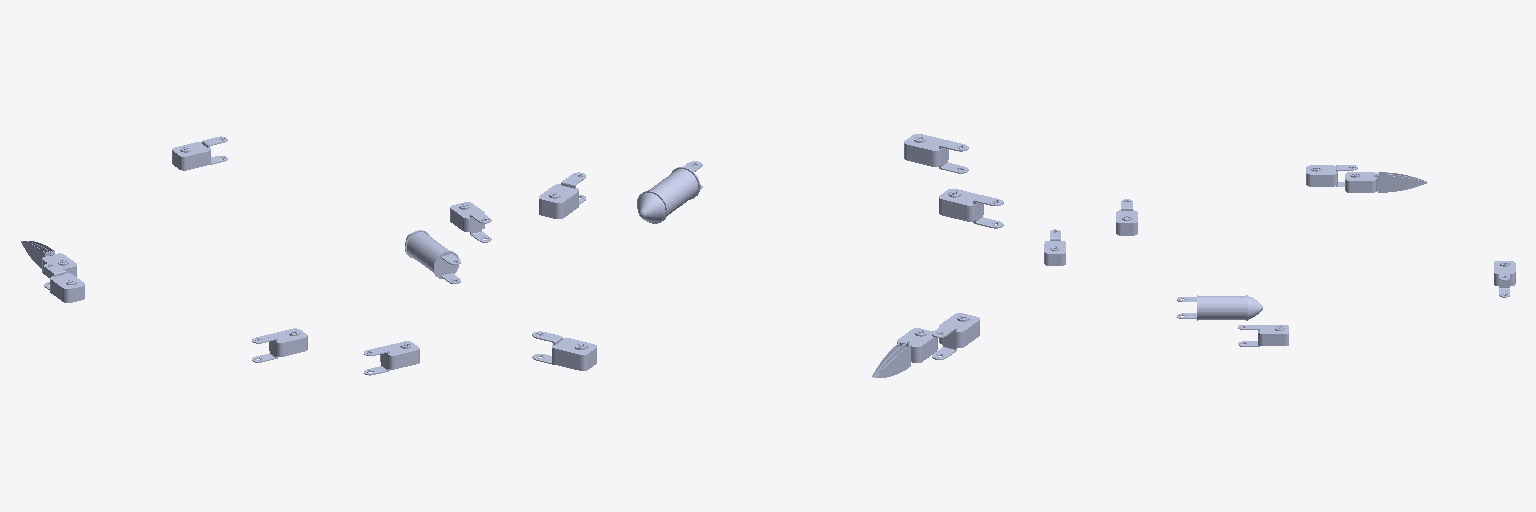
URDF robot description (bus_assembly_total_4):
<?xml version="1.0" encoding="utf-8"?>
<!-- This URDF was automatically created by SolidWorks to URDF Exporter! Originally created by Stephen Brawner (brawner@gmail.com) 
     Commit Version: 1.5.1-0-g916b5db  Build Version: 1.5.7152.31018
     For more information, please see http://wiki.ros.org/sw_urdf_exporter -->
<robot
  name="bus_assembly_total_4">
  <link
    name="base_link">
    <inertial>
      <origin
        xyz="0.0129612922113042 0.194166531718244 0.00201088275073096"
        rpy="0 0 0" />
      <mass
        value="0.0714886173099694" />
      <inertia
        ixx="5.8052354022765E-05"
        ixy="9.64592468533014E-23"
        ixz="-3.91335098339807E-22"
        iyy="3.48906593535472E-05"
        iyz="2.85219843976E-22"
        izz="5.69343997438361E-05" />
    </inertial>
    <visual>
      <origin
        xyz="0 0 0"
        rpy="0 0 0" />
      <geometry>
        <mesh
          filename="package://bus_assembly_total_4/meshes/base_link.STL" />
      </geometry>
      <material
        name="">
        <color
          rgba="0.792156862745098 0.819607843137255 0.933333333333333 1" />
      </material>
    </visual>
    <collision>
      <origin
        xyz="0 0 0"
        rpy="0 0 0" />
      <geometry>
        <mesh
          filename="package://bus_assembly_total_4/meshes/base_link.STL" />
      </geometry>
    </collision>
  </link>
  <link
    name="link1">
    <inertial>
      <origin
        xyz="-0.0144943377294187 -3.40932646003544E-08 0.00218131066633015"
        rpy="0 0 0" />
      <mass
        value="0.0861353887155428" />
      <inertia
        ixx="1.99776586952259E-05"
        ixy="-1.72087935880424E-10"
        ixz="-5.06437415995498E-08"
        iyy="4.35086698833461E-05"
        iyz="-6.51211953068583E-13"
        izz="4.97203166390373E-05" />
    </inertial>
    <visual>
      <origin
        xyz="0 0 0"
        rpy="0 0 0" />
      <geometry>
        <mesh
          filename="package://bus_assembly_total_4/meshes/link1.STL" />
      </geometry>
      <material
        name="">
        <color
          rgba="0.792156862745098 0.819607843137255 0.933333333333333 1" />
      </material>
    </visual>
    <collision>
      <origin
        xyz="0 0 0"
        rpy="0 0 0" />
      <geometry>
        <mesh
          filename="package://bus_assembly_total_4/meshes/link1.STL" />
      </geometry>
    </collision>
  </link>
  <joint
    name="joint1"
    type="revolute">
    <origin
      xyz="-0.09382 -0.00066923 0"
      rpy="0 0 0" />
    <parent
      link="base_link" />
    <child
      link="link1" />
    <axis
      xyz="0 0 -1" />
    <limit
      lower="-2.094"
      upper="2.094"
      effort="1.5"
      velocity="1" />
  </joint>
  <link
    name="link2">
    <inertial>
      <origin
        xyz="-0.0144943377294186 -3.409326462811E-08 0.00218131066633017"
        rpy="0 0 0" />
      <mass
        value="0.0861353887155428" />
      <inertia
        ixx="1.99776586952259E-05"
        ixy="-1.72087935877541E-10"
        ixz="-5.0643741599552E-08"
        iyy="4.35086698833461E-05"
        iyz="-6.5121195762315E-13"
        izz="4.97203166390373E-05" />
    </inertial>
    <visual>
      <origin
        xyz="0 0 0"
        rpy="0 0 0" />
      <geometry>
        <mesh
          filename="package://bus_assembly_total_4/meshes/link2.STL" />
      </geometry>
      <material
        name="">
        <color
          rgba="0.792156862745098 0.819607843137255 0.933333333333333 1" />
      </material>
    </visual>
    <collision>
      <origin
        xyz="0 0 0"
        rpy="0 0 0" />
      <geometry>
        <mesh
          filename="package://bus_assembly_total_4/meshes/link2.STL" />
      </geometry>
    </collision>
  </link>
  <joint
    name="joint2"
    type="revolute">
    <origin
      xyz="-0.0747 0 0"
      rpy="0 0 0" />
    <parent
      link="link1" />
    <child
      link="link2" />
    <axis
      xyz="0 0 1" />
    <limit
      lower="-2.094"
      upper="2.094"
      effort="1.5"
      velocity="1" />
  </joint>
  <link
    name="link3">
    <inertial>
      <origin
        xyz="-0.0144943377294187 -3.40932646836212E-08 0.00218131066633021"
        rpy="0 0 0" />
      <mass
        value="0.0861353887155427" />
      <inertia
        ixx="1.99776586952259E-05"
        ixy="-1.72087935884118E-10"
        ixz="-5.0643741599543E-08"
        iyy="4.3508669883346E-05"
        iyz="-6.51211951851536E-13"
        izz="4.97203166390373E-05" />
    </inertial>
    <visual>
      <origin
        xyz="0 0 0"
        rpy="0 0 0" />
      <geometry>
        <mesh
          filename="package://bus_assembly_total_4/meshes/link3.STL" />
      </geometry>
      <material
        name="">
        <color
          rgba="0.792156862745098 0.819607843137255 0.933333333333333 1" />
      </material>
    </visual>
    <collision>
      <origin
        xyz="0 0 0"
        rpy="0 0 0" />
      <geometry>
        <mesh
          filename="package://bus_assembly_total_4/meshes/link3.STL" />
      </geometry>
    </collision>
  </link>
  <joint
    name="joint3"
    type="revolute">
    <origin
      xyz="-0.0747 0 0"
      rpy="0 0 0" />
    <parent
      link="link2" />
    <child
      link="link3" />
    <axis
      xyz="0 0 1" />
    <limit
      lower="-2.094"
      upper="2.094"
      effort="1.5"
      velocity="1" />
  </joint>
  <link
    name="link4">
    <inertial>
      <origin
        xyz="-0.0144943377294188 -3.40932646836212E-08 0.00218131066633023"
        rpy="0 0 0" />
      <mass
        value="0.0861353887155427" />
      <inertia
        ixx="1.99776586952259E-05"
        ixy="-1.72087935880992E-10"
        ixz="-5.06437415995352E-08"
        iyy="4.3508669883346E-05"
        iyz="-6.5121195450399E-13"
        izz="4.97203166390372E-05" />
    </inertial>
    <visual>
      <origin
        xyz="0 0 0"
        rpy="0 0 0" />
      <geometry>
        <mesh
          filename="package://bus_assembly_total_4/meshes/link4.STL" />
      </geometry>
      <material
        name="">
        <color
          rgba="0.792156862745098 0.819607843137255 0.933333333333333 1" />
      </material>
    </visual>
    <collision>
      <origin
        xyz="0 0 0"
        rpy="0 0 0" />
      <geometry>
        <mesh
          filename="package://bus_assembly_total_4/meshes/link4.STL" />
      </geometry>
    </collision>
  </link>
  <joint
    name="joint4"
    type="revolute">
    <origin
      xyz="-0.0746999999999999 0 0"
      rpy="0 0 0" />
    <parent
      link="link3" />
    <child
      link="link4" />
    <axis
      xyz="0 0 1" />
    <limit
      lower="-2.094"
      upper="2.094"
      effort="1.5"
      velocity="1" />
  </joint>
  <link
    name="link5">
    <inertial>
      <origin
        xyz="-0.0144943377294188 -3.40932645170877E-08 0.00218131066633028"
        rpy="0 0 0" />
      <mass
        value="0.0861353887155427" />
      <inertia
        ixx="1.99776586952259E-05"
        ixy="-1.72087935892584E-10"
        ixz="-5.06437415995224E-08"
        iyy="4.35086698833461E-05"
        iyz="-6.51211956748894E-13"
        izz="4.97203166390373E-05" />
    </inertial>
    <visual>
      <origin
        xyz="0 0 0"
        rpy="0 0 0" />
      <geometry>
        <mesh
          filename="package://bus_assembly_total_4/meshes/link5.STL" />
      </geometry>
      <material
        name="">
        <color
          rgba="0.792156862745098 0.819607843137255 0.933333333333333 1" />
      </material>
    </visual>
    <collision>
      <origin
        xyz="0 0 0"
        rpy="0 0 0" />
      <geometry>
        <mesh
          filename="package://bus_assembly_total_4/meshes/link5.STL" />
      </geometry>
    </collision>
  </link>
  <joint
    name="joint5"
    type="revolute">
    <origin
      xyz="-0.0747 0 0"
      rpy="0 0 0" />
    <parent
      link="link4" />
    <child
      link="link5" />
    <axis
      xyz="0 0 1" />
    <limit
      lower="-2.094"
      upper="2.094"
      effort="1.5"
      velocity="1" />
  </joint>
  <link
    name="link6">
    <inertial>
      <origin
        xyz="-0.138097985436005 0.494478388417053 0.00170229839200541"
        rpy="0 0 0" />
      <mass
        value="0.0915951127437755" />
      <inertia
        ixx="4.01857882657343E-05"
        ixy="9.91706737968636E-18"
        ixz="-1.75413815158828E-15"
        iyy="1.94082875229411E-05"
        iyz="6.24174548265384E-09"
        izz="4.72146296605348E-05" />
    </inertial>
    <visual>
      <origin
        xyz="0 0 0"
        rpy="0 0 0" />
      <geometry>
        <mesh
          filename="package://bus_assembly_total_4/meshes/link6.STL" />
      </geometry>
      <material
        name="">
        <color
          rgba="0.792156862745098 0.819607843137255 0.933333333333333 1" />
      </material>
    </visual>
    <collision>
      <origin
        xyz="0 0 0"
        rpy="0 0 0" />
      <geometry>
        <mesh
          filename="package://bus_assembly_total_4/meshes/link6.STL" />
      </geometry>
    </collision>
  </link>
  <joint
    name="joint6"
    type="revolute">
    <origin
      xyz="-0.0747 0 0"
      rpy="0 0 0" />
    <parent
      link="link5" />
    <child
      link="link6" />
    <axis
      xyz="0 0 1" />
    <limit
      lower="-2.094"
      upper="2.094"
      effort="1.5"
      velocity="1" />
  </joint>
</robot>

--- Facts derived from the render (not from the file) ---
3 views of the same robot in one strip: view 1: azimuth 30°, elevation 25°; view 2: azimuth 150°, elevation 25°; view 3: azimuth 270°, elevation 25° (orthographic).
Model bus_assembly_total_4 with 7 links and 6 joints (6 revolute), rooted at base_link, posed every joint at zero.
Visible links, largest first — view 1: base_link, link1, link5, link3, link4, link2, link6; view 2: base_link, link6, link1, link5, link3, link2, link4; view 3: base_link, link6, link4, link2, link5, link3, link1.
Link boxes in pixels (x1=…): base_link: x1=405, y1=230, x2=460, y2=283; link1: x1=364, y1=341, x2=419, y2=375; link5: x1=252, y1=328, x2=307, y2=362; link3: x1=172, y1=136, x2=227, y2=170; link4: x1=450, y1=202, x2=491, y2=242; link2: x1=44, y1=263, x2=84, y2=302; link6: x1=21, y1=241, x2=76, y2=277; base_link: x1=637, y1=161, x2=702, y2=223; link6: x1=872, y1=328, x2=937, y2=377; link1: x1=904, y1=134, x2=968, y2=173; link5: x1=939, y1=189, x2=1003, y2=228; link3: x1=532, y1=331, x2=596, y2=370; link2: x1=932, y1=313, x2=979, y2=359; link4: x1=539, y1=172, x2=585, y2=218; base_link: x1=1177, y1=295, x2=1262, y2=320; link6: x1=1345, y1=172, x2=1426, y2=192; link4: x1=1238, y1=325, x2=1288, y2=346; link2: x1=1306, y1=165, x2=1357, y2=186; link5: x1=1116, y1=199, x2=1137, y2=235; link3: x1=1494, y1=261, x2=1515, y2=297; link1: x1=1044, y1=229, x2=1065, y2=265.
Size in the robot's own frame: 0.831 by 0.9804 by 0.055 metres.
7 mesh visuals loaded from 7 distinct referenced files (7 binary STL).
